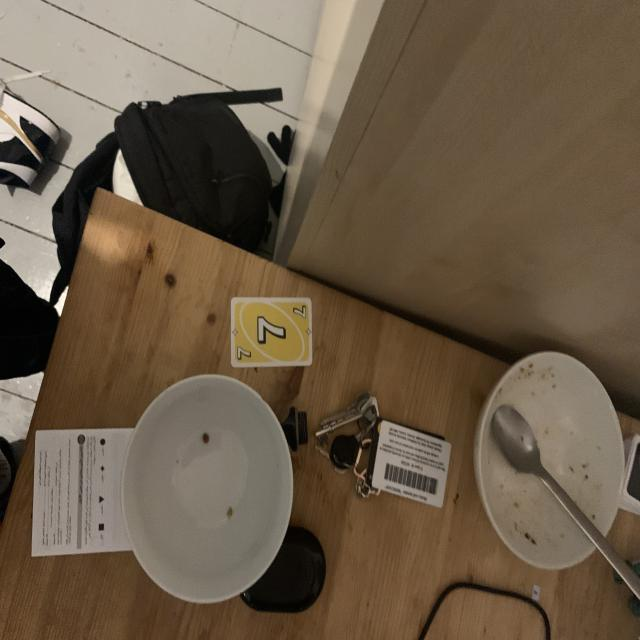lyellow-7: (289, 304, 309, 320)
